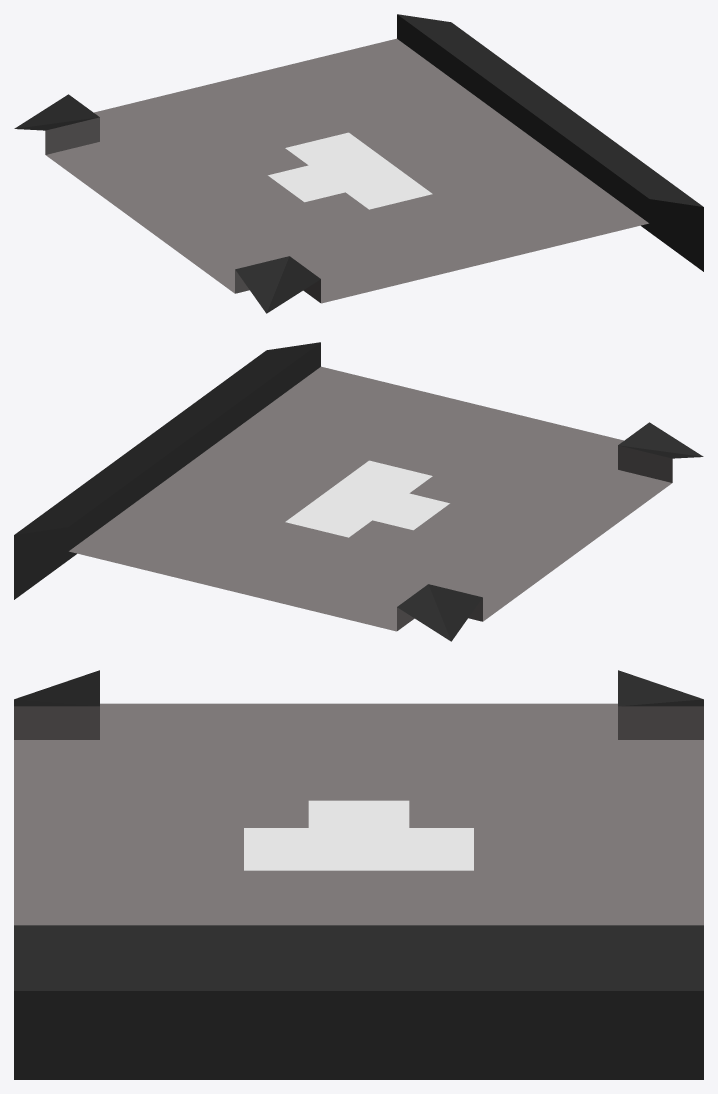
Rendered from road_T_type_03.fbx.
The picture shows the model from 3 angles, top to bottom: view 1: azimuth 30°, elevation 25°; view 2: azimuth 150°, elevation 25°; view 3: azimuth 270°, elevation 25°; orthographic projection. The views are drawn at different scales.
Parts seen in each view (by area): view 1: road_T_type_03; view 2: road_T_type_03; view 3: road_T_type_03.
Boxes of the visible parts, box(x1,y1,x2,y2) form: road_T_type_03: box(14, 14, 703, 313); road_T_type_03: box(14, 342, 703, 641); road_T_type_03: box(14, 670, 703, 1079).
Bounding box in the file's own units: 334 × 63.09 × 334.
1 material, 1 textured.
